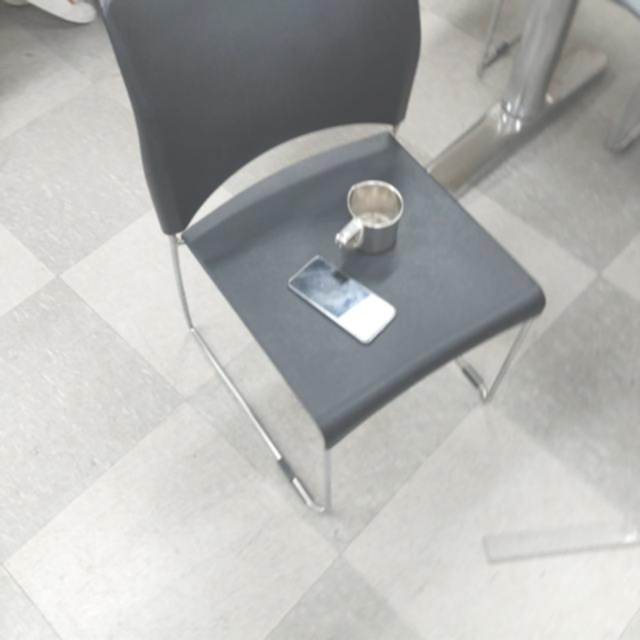cup: (332, 178, 405, 256)
phone: (287, 253, 399, 345)
